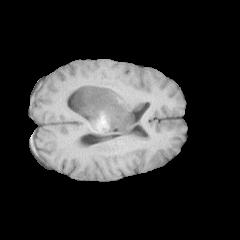glioma: (71, 85, 135, 135)
